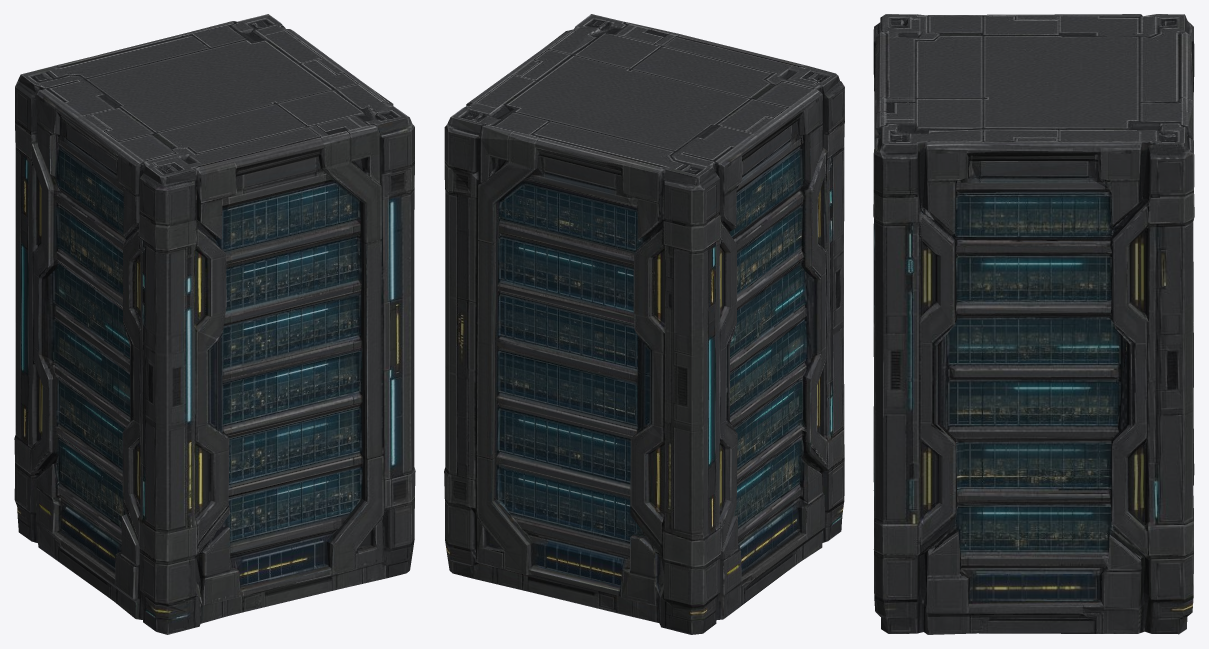
The model's file is kit4-mid.glb.
The picture shows the model from 3 angles, left to right: view 1: azimuth 30°, elevation 25°; view 2: azimuth 150°, elevation 25°; view 3: azimuth 270°, elevation 25°; orthographic projection. The views are drawn at different scales.
Visible parts, largest first — view 1: Mesh_0.001; view 2: Mesh_0.001; view 3: Mesh_0.001.
Part boxes in pixels (x1=…): Mesh_0.001: x1=14, y1=14, x2=415, y2=634; Mesh_0.001: x1=444, y1=14, x2=844, y2=634; Mesh_0.001: x1=873, y1=14, x2=1194, y2=634.
Bounding box in the file's own units: 0.9992 × 1.66 × 0.9891.
Materials: 1 (1 with a texture image).
